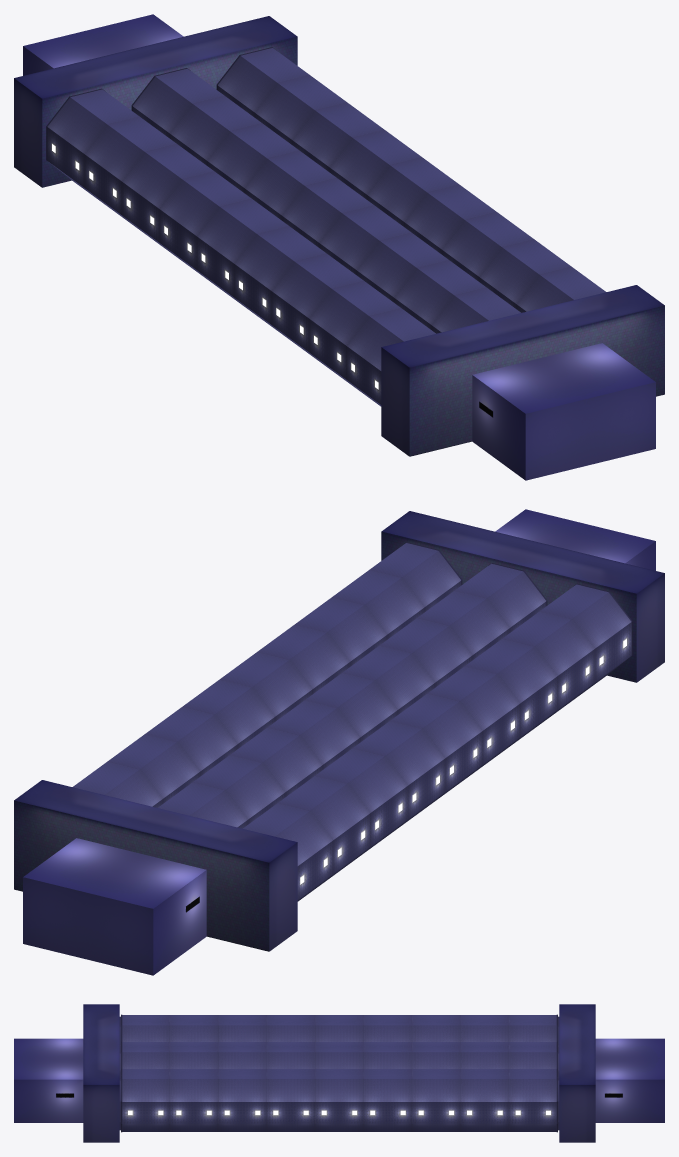
File: purplepipe2.fbx
3 views of the same model, one above another, from view 1: azimuth 30°, elevation 25°; view 2: azimuth 150°, elevation 25°; view 3: azimuth 270°, elevation 25° (orthographic). The views are drawn at different scales.
Parts seen in each view (by area): view 1: Material2, Material2.002; view 2: Material2, Material2.002; view 3: Material2, Material2.002, Material2.001.
Boxes of the visible parts, left/top/right/bottom form: Material2: left=47, top=48, right=606, bottom=406; Material2.002: left=14, top=14, right=664, bottom=480; Material2: left=72, top=543, right=631, bottom=901; Material2.002: left=14, top=509, right=664, bottom=975; Material2: left=122, top=1015, right=556, bottom=1131; Material2.002: left=14, top=1004, right=664, bottom=1142; Material2.001: left=128, top=1110, right=550, bottom=1114.
Bounding box in the file's own units: 42528 × 14176 × 144987.
